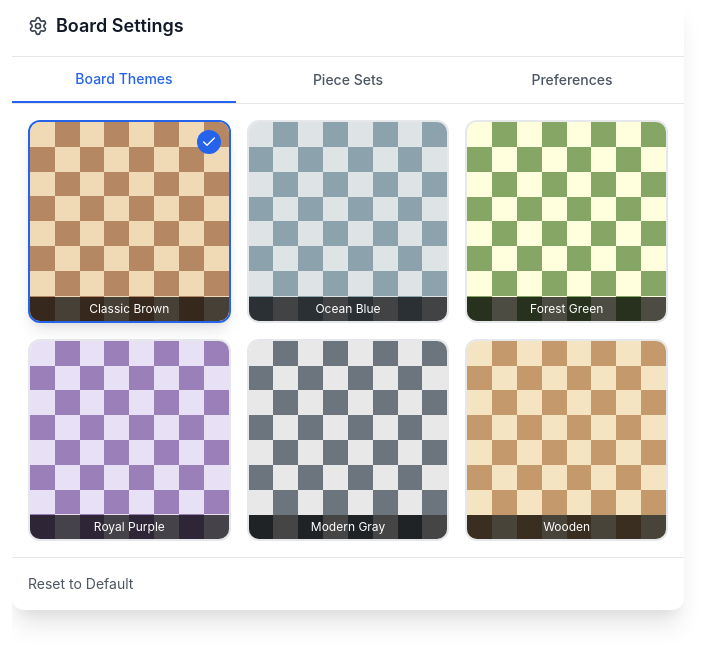
it: BoardSettings - Haptic Feedback › should switch between tabs correctly
Expected: the text "Classic Brown" is shown, [30,297,229,321]
# Click on Piece Sets tab
Click the button "Piece Sets": point(348, 80) [236,57,460,103]
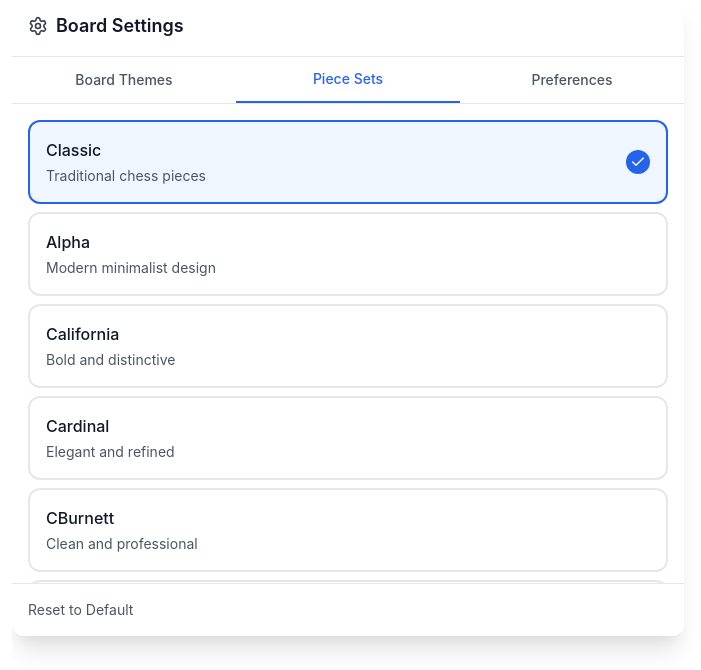
Expected: the text "Classic" is shown, [46,140,101,160]
# Click on Preferences tab
Click the button "Preferences": point(572, 80) [460,57,684,103]
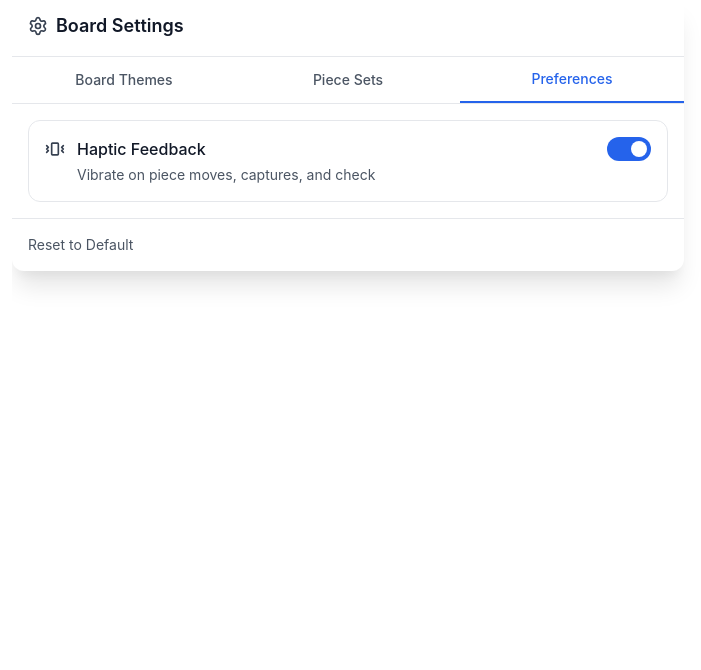
Now the text "Haptic Feedback" is shown, box [77,139,206,159]
